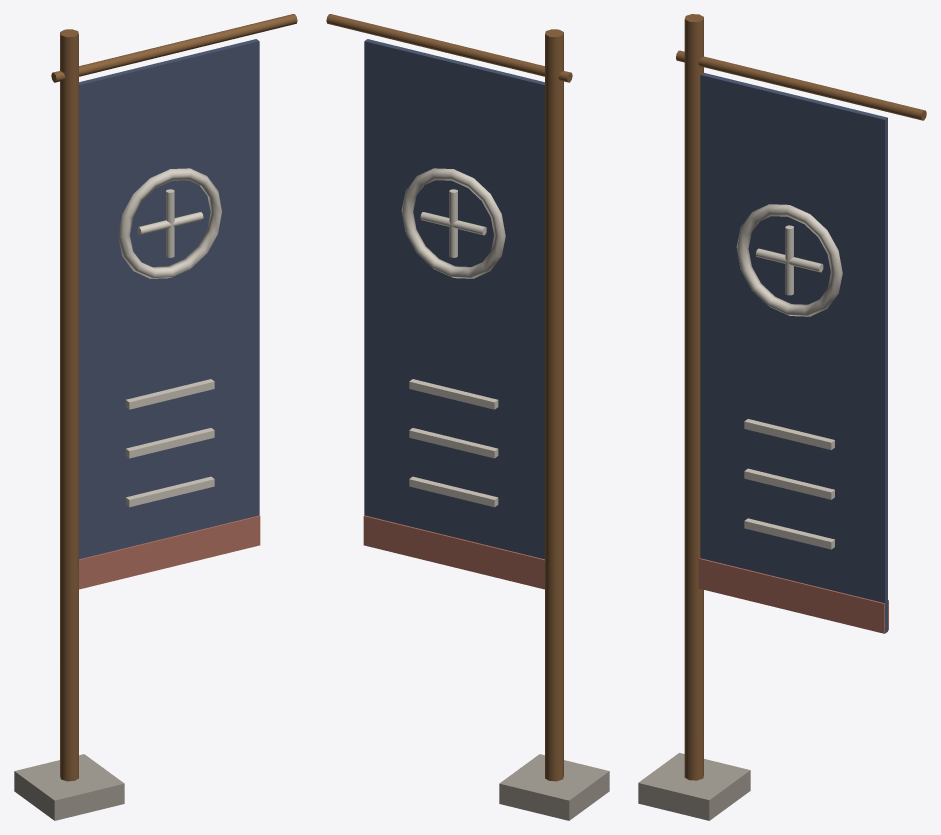
The model's file is komachi-festival-banner.glb.
The picture shows the model from 3 angles, left to right: view 1: azimuth 30°, elevation 25°; view 2: azimuth 150°, elevation 25°; view 3: azimuth 330°, elevation 25°; orthographic projection.
Parts seen in each view (by area): view 1: Festival_Nobori; view 2: Festival_Nobori; view 3: Festival_Nobori.
Part boxes in pixels (x1,y1,x2,y2): Festival_Nobori: (14, 14, 297, 820); Festival_Nobori: (326, 14, 609, 820); Festival_Nobori: (638, 14, 926, 820).
Size of the model in its own units: 0.335 by 0.94 by 0.09.
